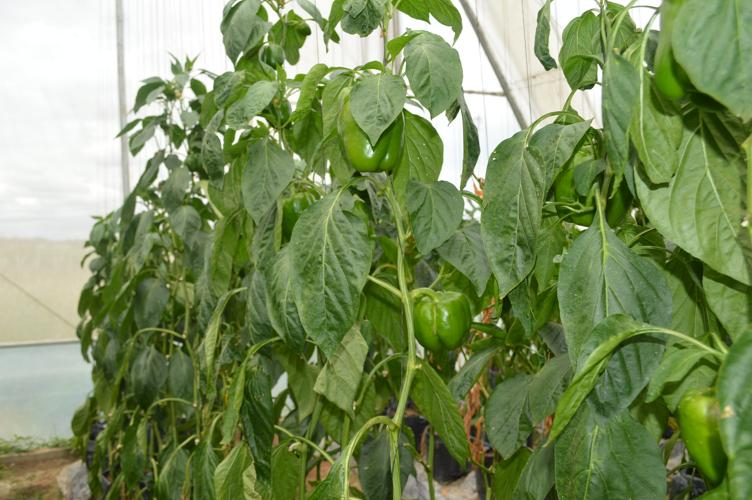BellPepper: (335, 101, 408, 177), (554, 152, 627, 226), (679, 397, 724, 480), (417, 292, 471, 355), (648, 27, 691, 103)
